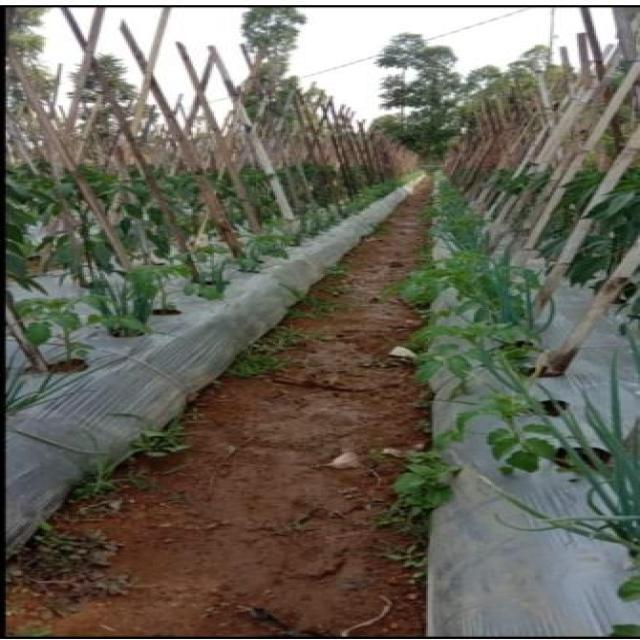row: (7, 175, 432, 639)
